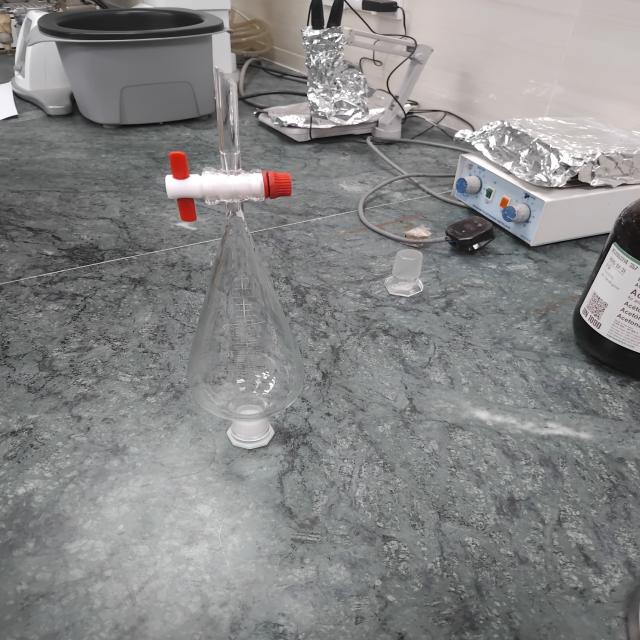Separating_Funnel: (142, 44, 347, 481)
